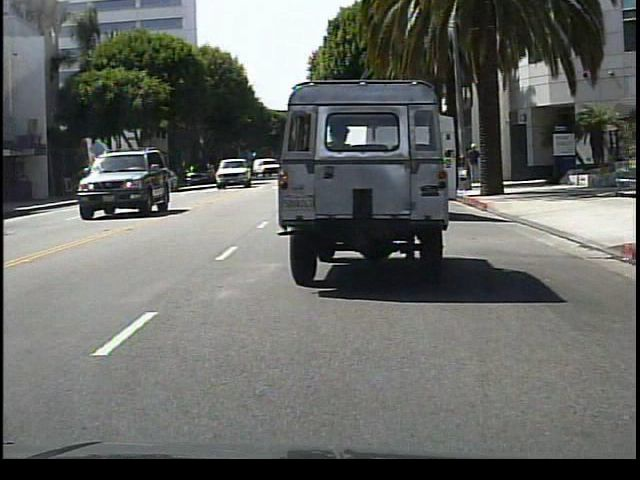person: (466, 144, 483, 187)
